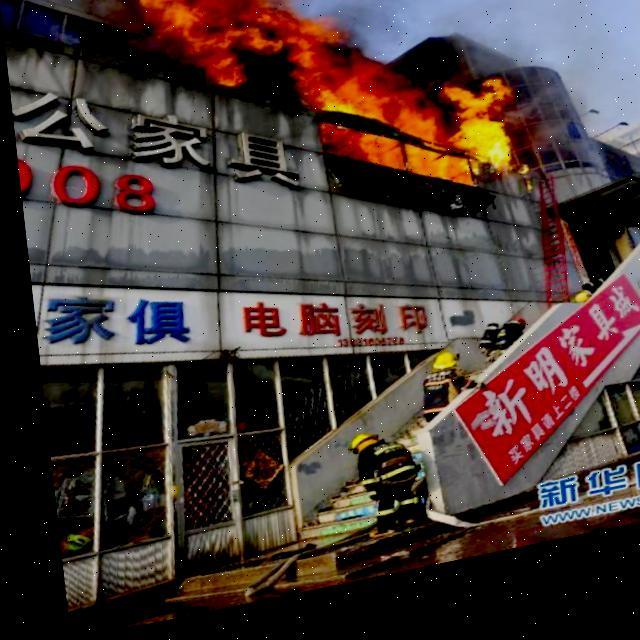Fire: (142, 0, 515, 260)
